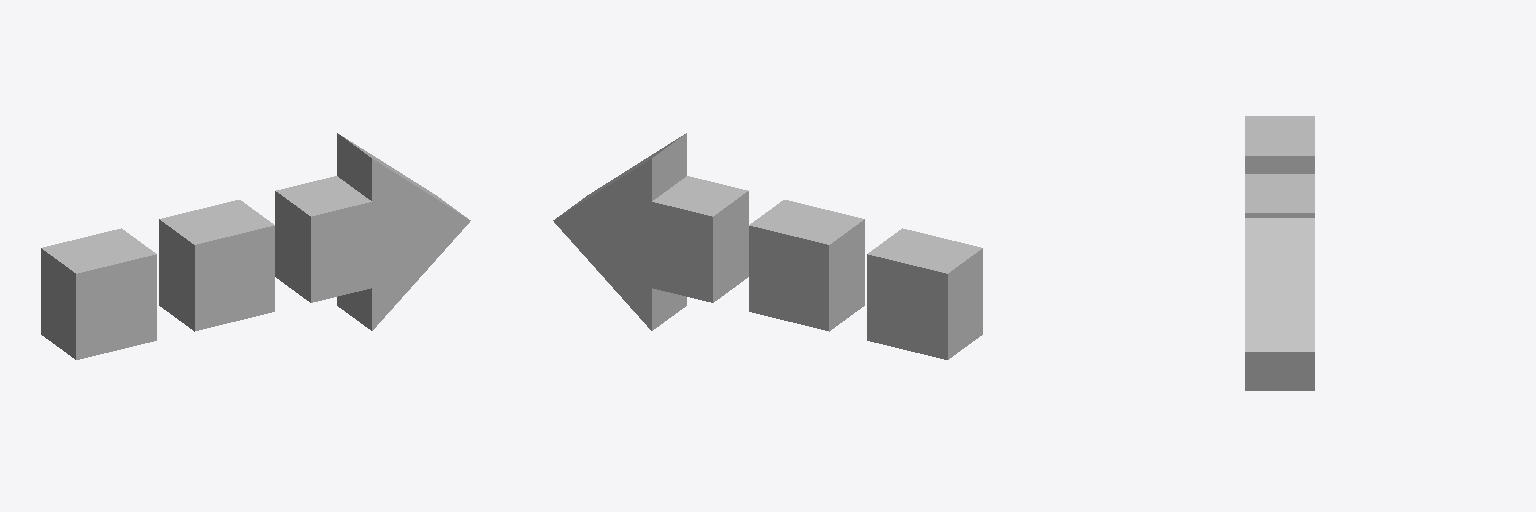
The model's file is Arrow_6.obj.
3 views of the same model, side by side, from view 1: azimuth 30°, elevation 25°; view 2: azimuth 150°, elevation 25°; view 3: azimuth 270°, elevation 25° (orthographic).
Parts seen in each view (by area): view 1: Arrow_6; view 2: Arrow_6; view 3: Arrow_6.
Part boxes in pixels (bbox=[...]): Arrow_6: bbox=[41, 133, 470, 359]; Arrow_6: bbox=[553, 133, 982, 359]; Arrow_6: bbox=[1245, 116, 1314, 390].
Bounding box in the file's own units: 4.78 × 2 × 0.7423.